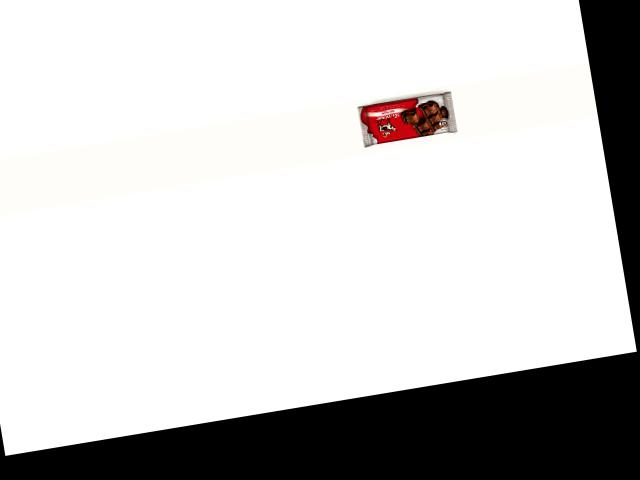chocolate: (354, 83, 460, 150)
